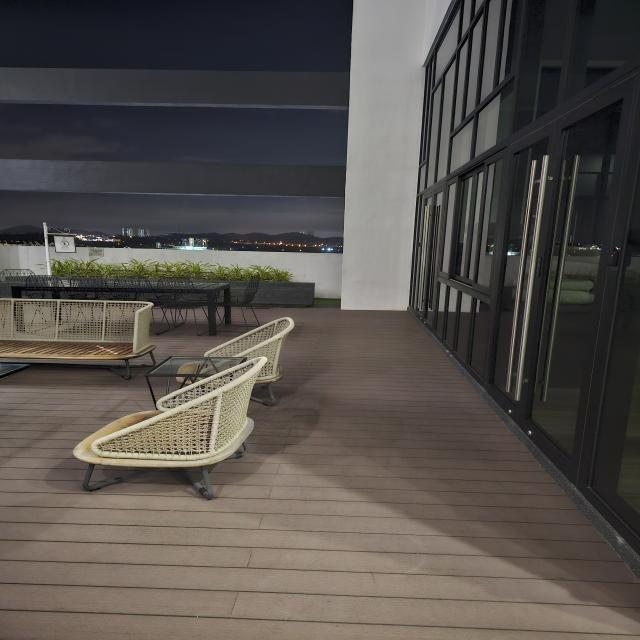footpath: (0, 494, 640, 640), (298, 322, 442, 498)
obstacle: (70, 317, 299, 502), (6, 275, 234, 338), (1, 296, 159, 383), (225, 255, 333, 314)
